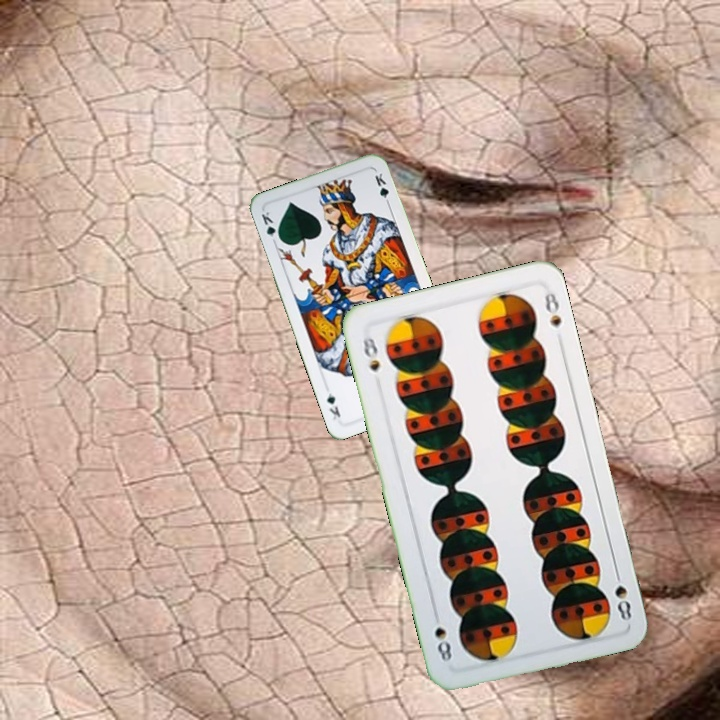GK: (257, 207, 283, 245)
S8: (610, 565, 634, 624), (359, 333, 383, 375)
